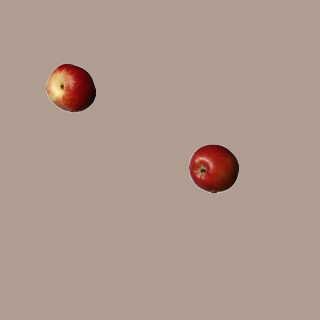Apple Braeburn: (188, 143, 238, 193)
Nectarine: (45, 62, 95, 112)
